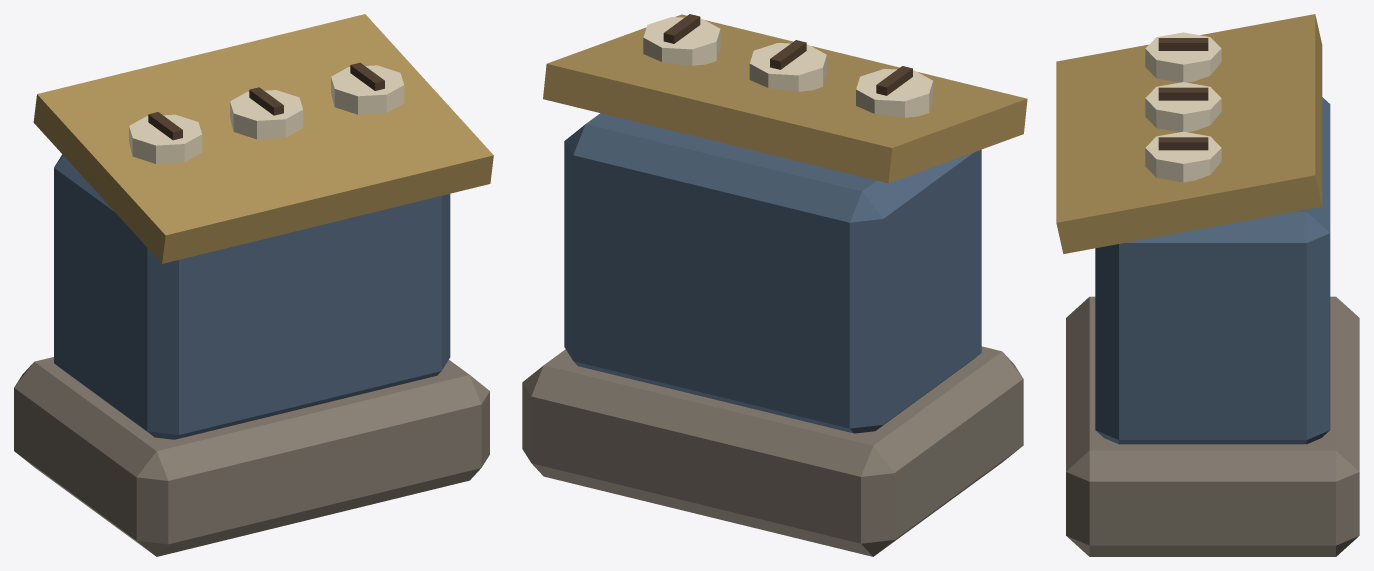
The model's file is works_console.glb.
The picture shows the model from 3 angles, left to right: view 1: azimuth 30°, elevation 25°; view 2: azimuth 150°, elevation 25°; view 3: azimuth 270°, elevation 25°; orthographic projection. The views are drawn at different scales.
Parts seen in each view (by area): view 1: console, control_panel, base.002, dial.001, dial.002, dial; view 2: console, base.002, control_panel, dial, dial.001, dial.002, pointer.002; view 3: console, control_panel, base.002, dial.002, dial.001, dial, pointer.001, pointer.002, pointer.
Part boxes in pixels (x1,y1,x2,y2): console: (54,154,450,439); control_panel: (33,14,493,263); base.002: (14,357,489,556); dial.001: (230,90,303,139); dial.002: (331,65,404,114); dial: (129,114,202,163); console: (564,113,981,433); base.002: (522,346,1023,556); control_panel: (543,14,1027,183); dial: (856,68,933,117); dial.001: (749,43,826,91); dial.002: (643,17,720,65); pointer.002: (663,14,700,43); console: (1095,97,1330,444); control_panel: (1056,14,1322,253); base.002: (1066,296,1359,556); dial.002: (1145,131,1221,182); dial.001: (1145,82,1221,132); dial: (1145,32,1221,82); pointer.001: (1158,87,1208,100); pointer.002: (1158,137,1208,150); pointer: (1158,38,1208,50).
Bounding box in the file's own units: 1.4 × 1.47 × 1.03.
